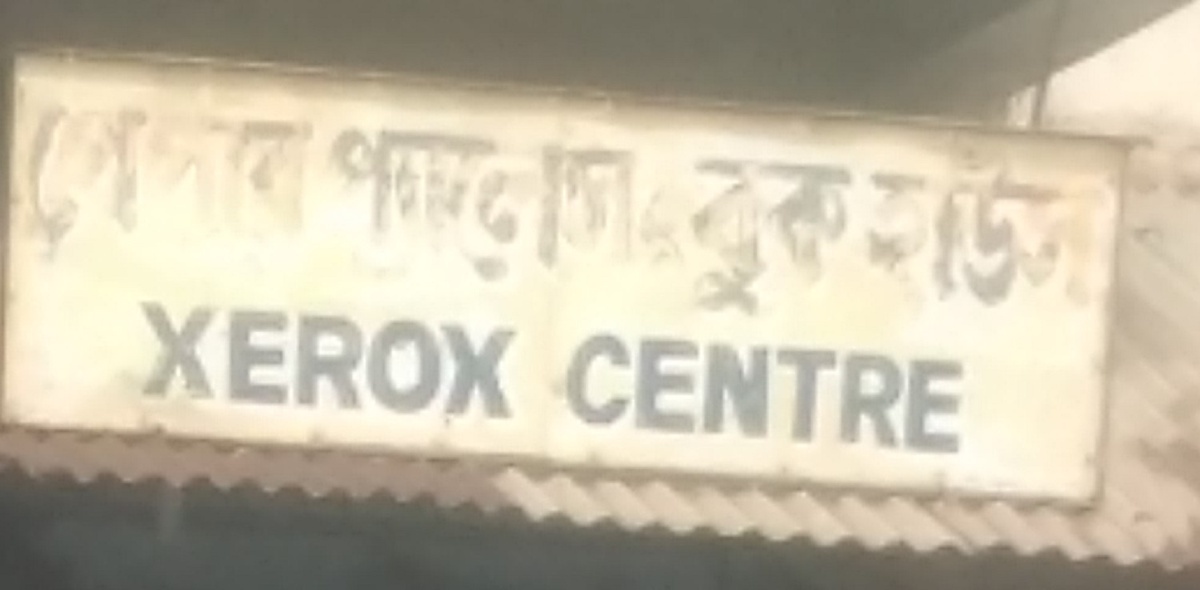text: (881, 137, 896, 312), (897, 137, 912, 312), (913, 137, 928, 312), (929, 137, 944, 312), (945, 137, 960, 312), (961, 137, 976, 312), (977, 137, 992, 312), (993, 137, 1008, 312), (1009, 137, 1024, 312), (1025, 137, 1040, 312), (1041, 137, 1056, 312), (1057, 137, 1072, 312), (1073, 137, 1088, 312), (1089, 137, 1104, 312), (337, 119, 352, 288), (353, 119, 368, 288), (369, 119, 384, 288), (385, 119, 400, 288), (401, 119, 416, 288), (417, 119, 432, 288), (433, 119, 448, 288), (449, 119, 464, 288), (465, 119, 480, 288), (481, 119, 496, 288), (497, 119, 512, 288), (513, 119, 528, 288), (529, 119, 544, 288), (545, 119, 560, 288), (561, 119, 576, 288), (577, 119, 592, 288), (593, 119, 608, 288), (609, 119, 624, 288), (689, 150, 704, 318), (705, 150, 720, 318), (721, 150, 736, 318), (737, 150, 752, 318), (753, 150, 768, 318), (769, 150, 784, 318), (785, 150, 800, 318), (801, 150, 816, 318), (817, 150, 832, 318), (833, 150, 848, 318), (625, 119, 638, 288), (33, 101, 48, 245), (49, 101, 64, 245), (65, 101, 80, 245), (81, 101, 96, 245), (97, 101, 112, 245), (113, 101, 128, 245), (129, 101, 144, 245), (145, 101, 160, 245), (161, 101, 176, 245), (177, 101, 192, 245), (193, 101, 208, 245), (209, 101, 224, 245), (225, 101, 240, 245), (241, 101, 256, 245), (257, 101, 272, 245), (273, 101, 288, 245), (289, 101, 304, 245), (577, 326, 592, 460), (593, 326, 608, 460), (609, 326, 624, 460), (625, 326, 640, 460), (641, 326, 656, 460), (657, 326, 672, 460), (673, 326, 688, 460), (689, 326, 704, 460), (705, 326, 720, 460), (721, 326, 736, 460), (737, 326, 752, 460), (753, 326, 768, 460), (769, 326, 784, 460), (785, 326, 800, 460), (801, 326, 816, 460), (817, 326, 832, 460), (833, 326, 848, 460), (849, 326, 864, 460), (865, 326, 880, 460), (881, 326, 896, 460), (897, 326, 912, 460), (913, 326, 928, 460), (929, 326, 944, 460), (945, 326, 960, 460), (869, 137, 880, 312), (129, 298, 144, 422), (145, 298, 160, 422), (161, 298, 176, 422), (177, 298, 192, 422), (193, 298, 208, 422), (209, 298, 224, 422), (225, 298, 240, 422), (241, 298, 256, 422), (257, 298, 272, 422), (273, 298, 288, 422), (289, 298, 304, 422), (305, 298, 320, 422), (321, 298, 336, 422), (337, 298, 352, 422), (353, 298, 368, 422), (369, 298, 384, 422), (385, 298, 400, 422), (401, 298, 416, 422), (417, 298, 432, 422), (433, 298, 448, 422), (449, 298, 464, 422), (465, 298, 480, 422), (481, 298, 496, 422), (497, 298, 512, 422), (325, 119, 336, 288), (961, 326, 973, 460), (641, 171, 656, 269), (657, 171, 672, 269), (305, 101, 314, 245), (513, 298, 523, 422), (567, 326, 576, 460), (673, 171, 684, 269), (25, 101, 32, 245), (849, 150, 855, 318), (1105, 137, 1107, 312), (637, 171, 640, 269)
